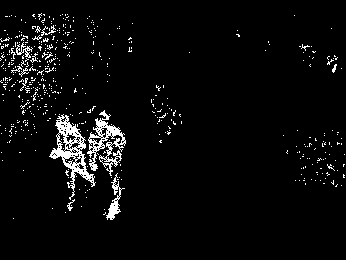person: (49, 116, 95, 210), (88, 110, 124, 218), (151, 82, 181, 143)
